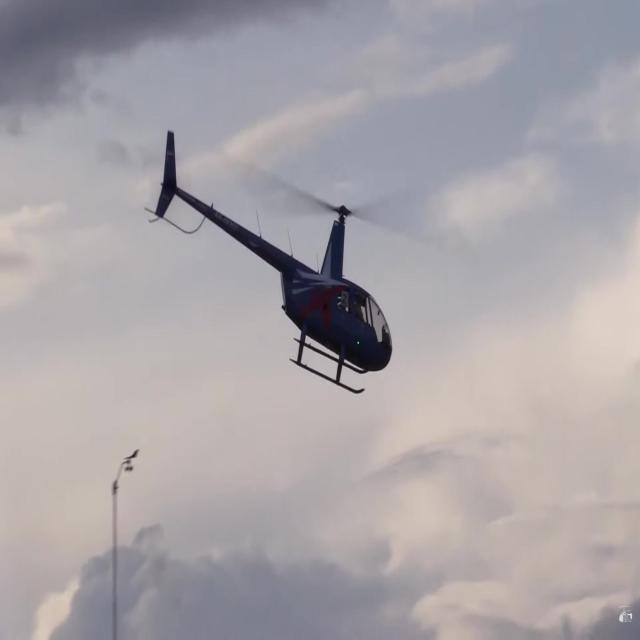CIV_HELO: (150, 126, 393, 406)
